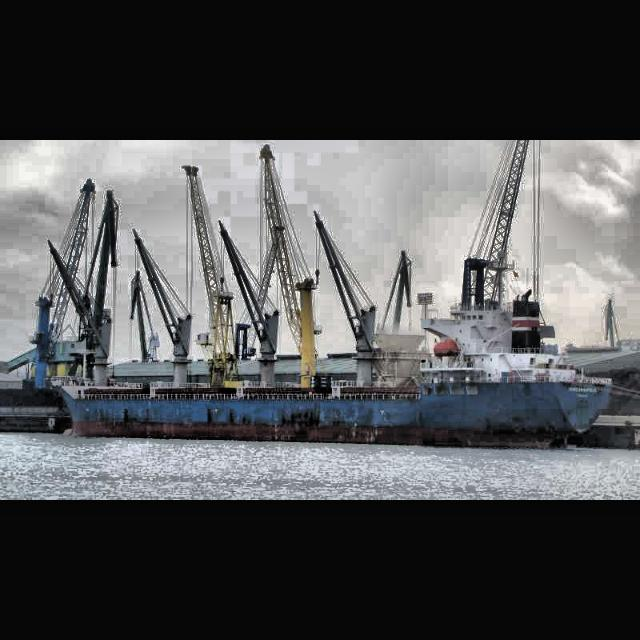bulk_carrier: (53, 271, 613, 454)
